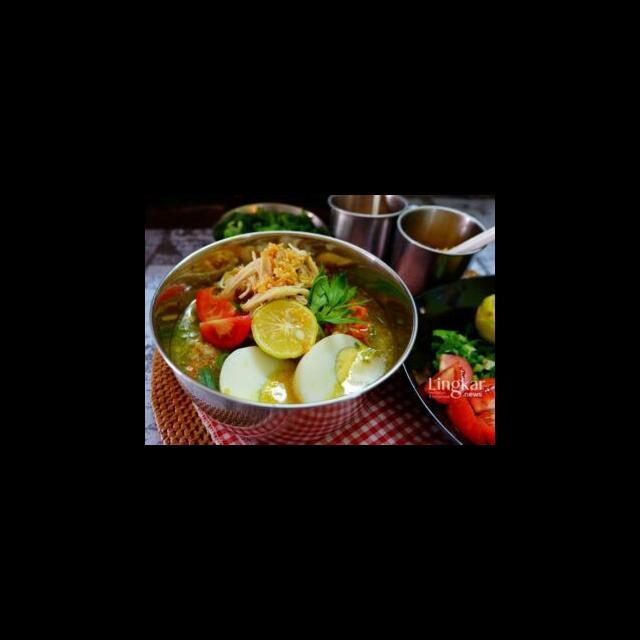Soto: (173, 219, 426, 418)
